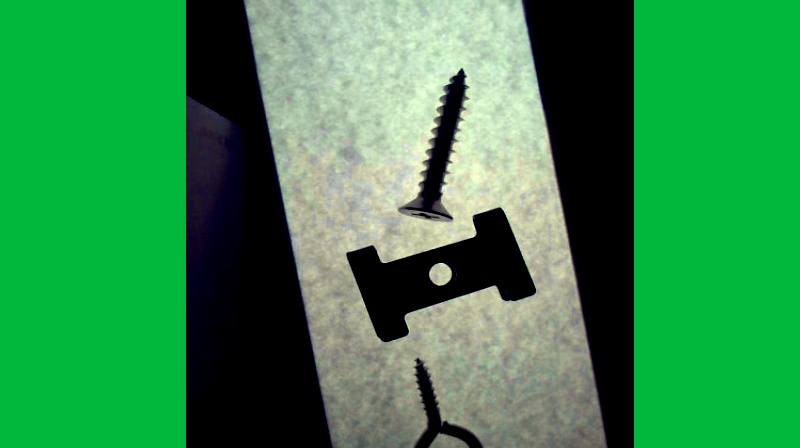O001: (406, 356, 484, 447)
O002: (346, 203, 535, 342)
S001: (396, 68, 468, 226)
